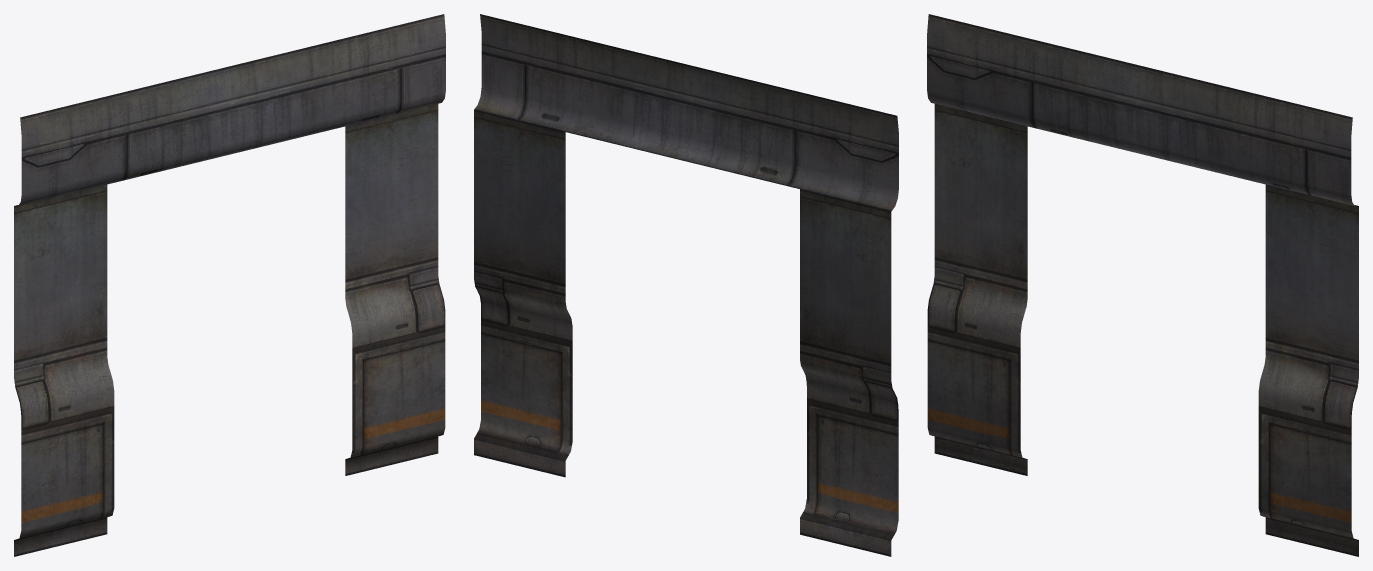
The model's file is bathroom_doorway.DAE.
The picture shows the model from 3 angles, left to right: view 1: azimuth 30°, elevation 25°; view 2: azimuth 150°, elevation 25°; view 3: azimuth 330°, elevation 25°; orthographic projection.
Visible parts, largest first — view 1: Plane001; view 2: Plane001; view 3: Plane001.
Part boxes in pixels (x1,y1,x2,y2): Plane001: [14, 14, 445, 556]; Plane001: [474, 14, 898, 556]; Plane001: [927, 14, 1358, 556].
Bounding box in the file's own units: 4 × 4 × 0.1234.
